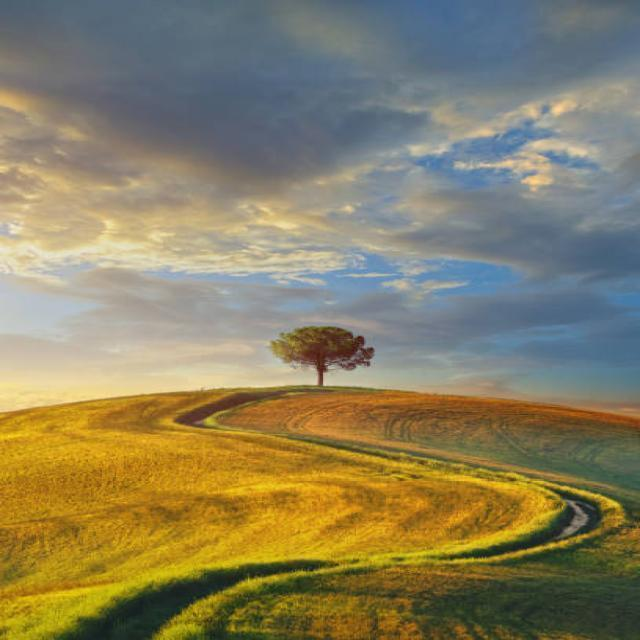tree: (278, 328, 372, 388)
